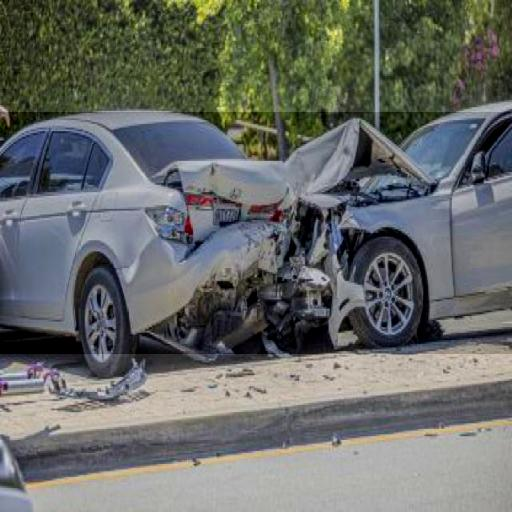小汽车撞小汽车: (0, 112, 512, 354)
